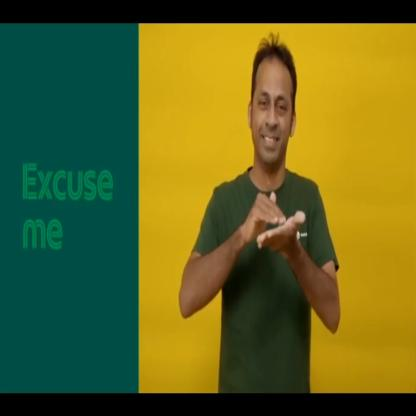ExcuseMe: (180, 36, 342, 389)
